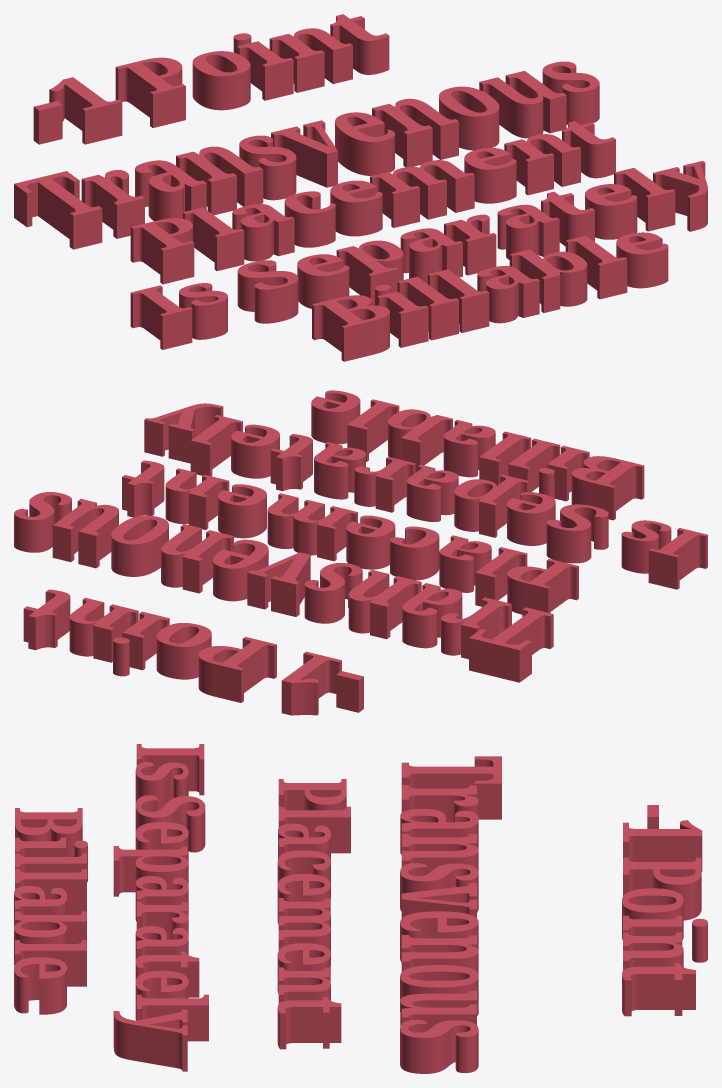
Rendered from netran.gltf.
3 views of the same model, one above another, from view 1: azimuth 30°, elevation 25°; view 2: azimuth 150°, elevation 25°; view 3: azimuth 270°, elevation 25° (orthographic). The views are drawn at different scales.
Parts seen in each view (by area): view 1: Mesh_Mesh_head_geo001_lambert2SG001; view 2: Mesh_Mesh_head_geo001_lambert2SG001; view 3: Mesh_Mesh_head_geo001_lambert2SG001.
Boxes of the visible parts, bbox=[...] form: Mesh_Mesh_head_geo001_lambert2SG001: bbox=[14, 14, 707, 361]; Mesh_Mesh_head_geo001_lambert2SG001: bbox=[14, 390, 707, 715]; Mesh_Mesh_head_geo001_lambert2SG001: bbox=[14, 744, 707, 1073].
Size of the model in its own units: 175 by 10 by 175.
